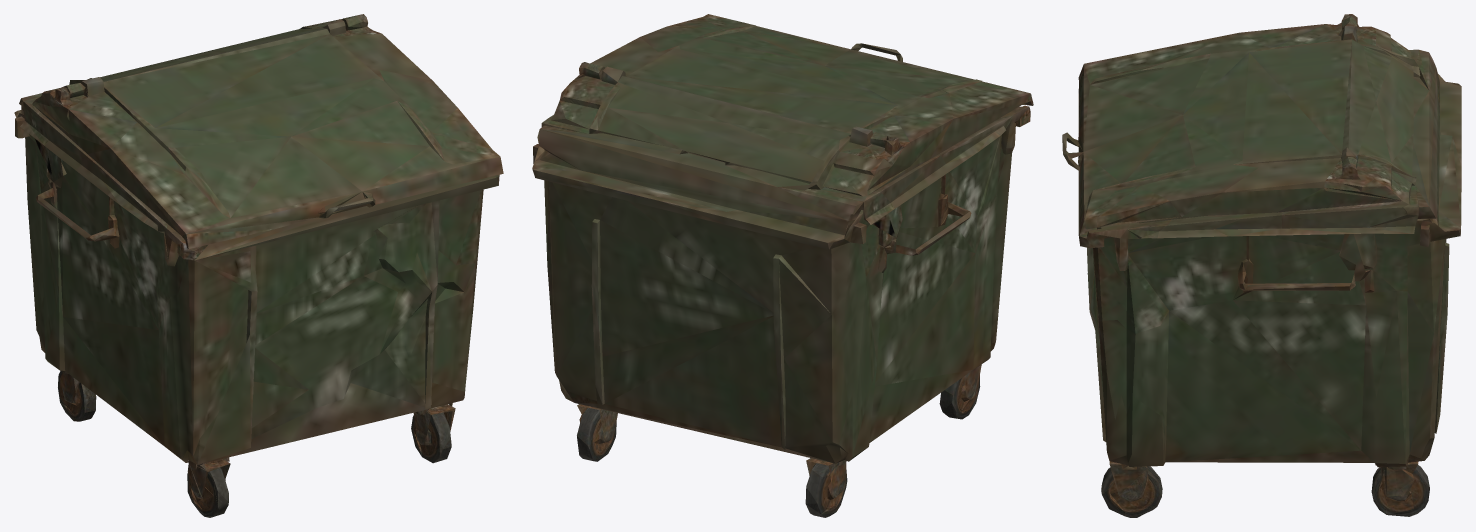
Rendered from Soviet_Dumpster_3000.glb.
The picture shows the model from 3 angles, left to right: view 1: azimuth 30°, elevation 25°; view 2: azimuth 150°, elevation 25°; view 3: azimuth 270°, elevation 25°; orthographic projection. The views are drawn at different scales.
Parts seen in each view (by area): view 1: output_unwrapped; view 2: output_unwrapped; view 3: output_unwrapped.
Part boxes in pixels (x1,y1,x2,y2): output_unwrapped: (14, 14, 503, 517); output_unwrapped: (532, 14, 1033, 517); output_unwrapped: (1062, 14, 1461, 517).
Size of the model in its own units: 2 by 1.93 by 1.9.
1 material, 1 textured.
